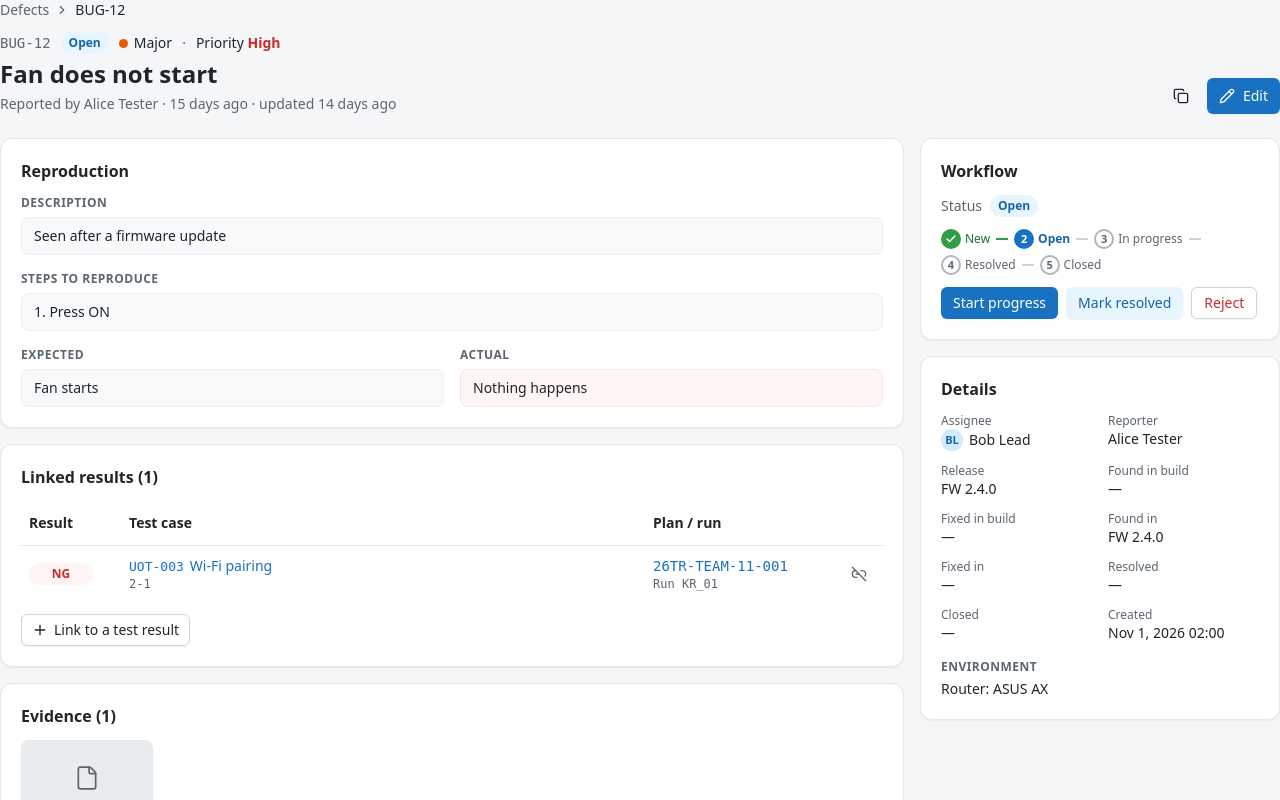
it: DefectDetailPage › moves the defect through the workflow with a comment
The width and height of the screenshot is (1280, 800).
Step 1. Click the button "Mark resolved" → (1125, 303), box [1066,287,1183,319]
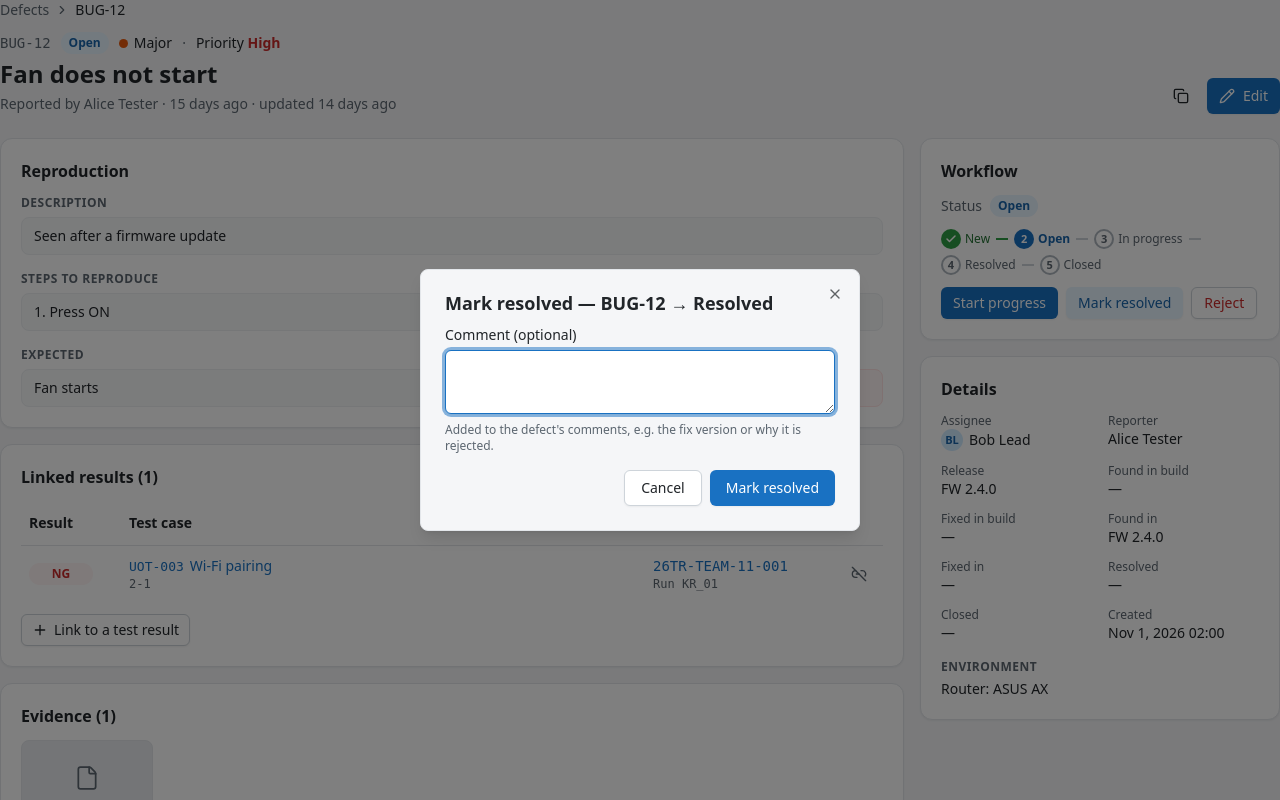
Step 2. Type "Fixed in 2.4.1" into the text box labelled "Comment (optional)" → (640, 382), box [445,350,835,414]
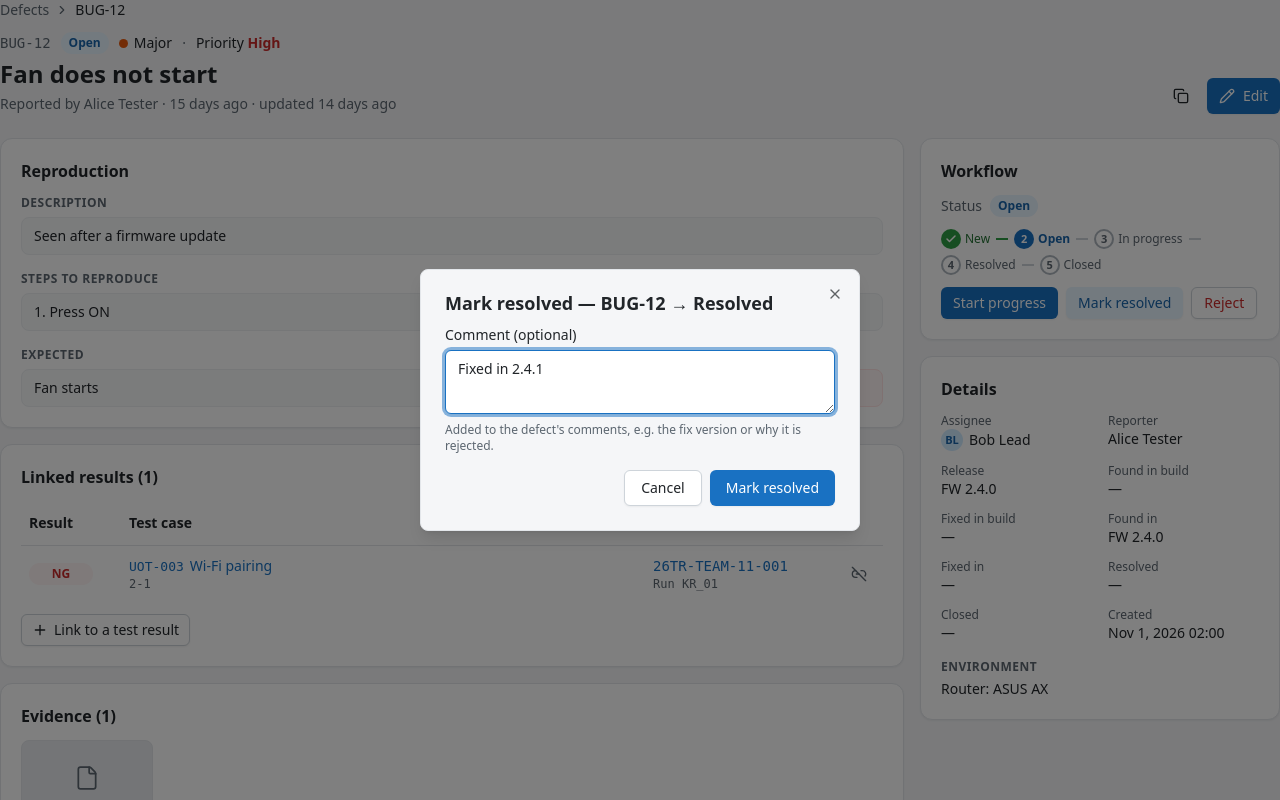
Step 3. Click the button "Mark resolved" → (772, 488), box [710,470,835,506]
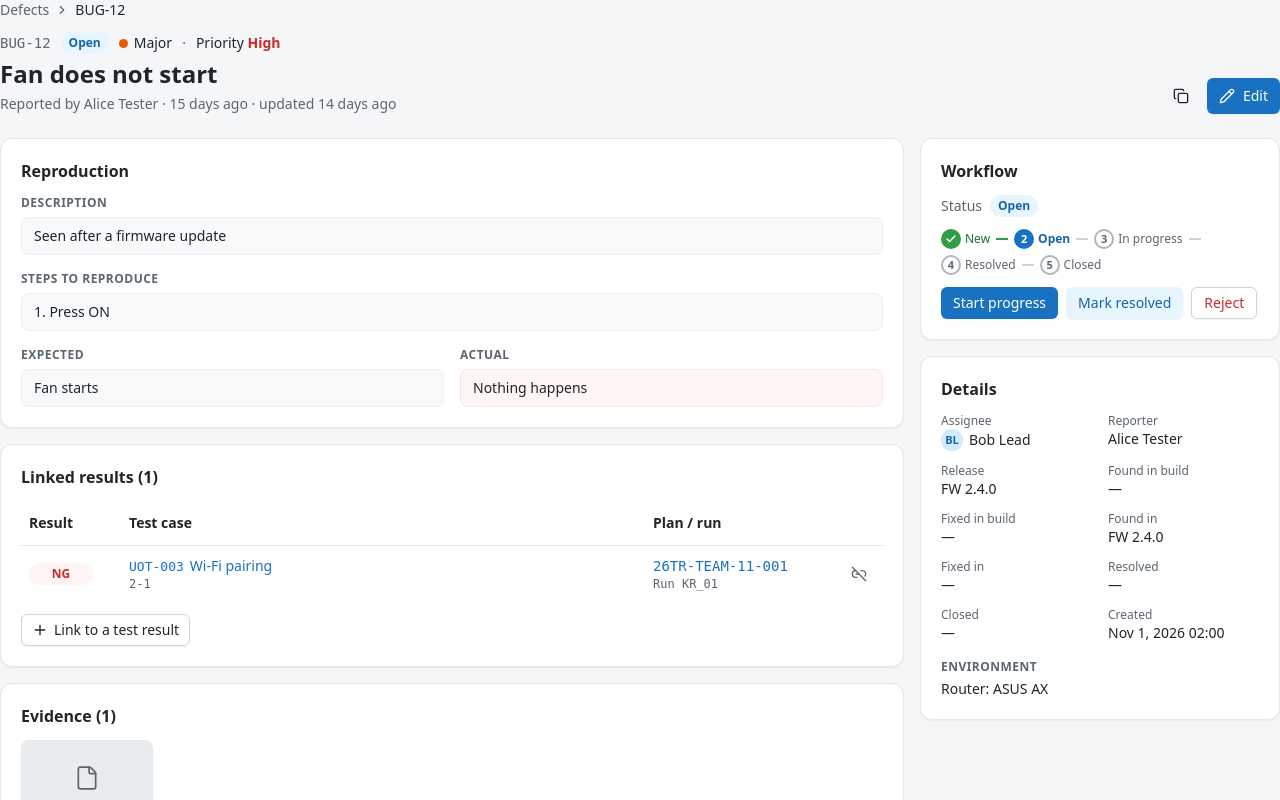
Expected: the dialog is gone
